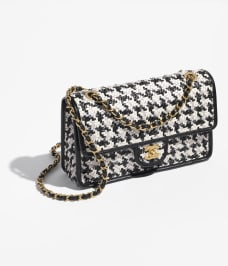channel: (55, 77, 218, 182), (91, 91, 128, 125), (177, 75, 202, 110), (136, 143, 164, 164)
